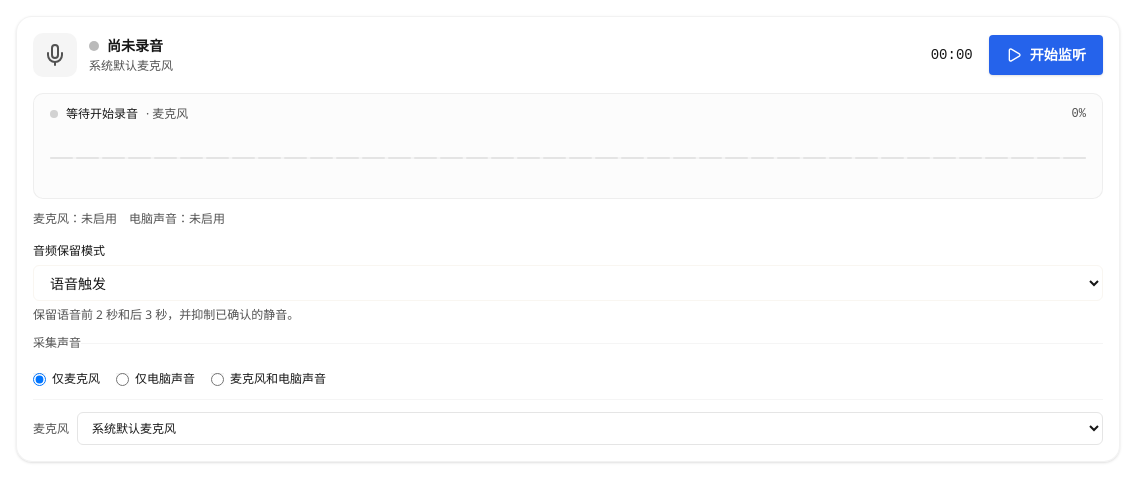
Test case: first-use recording consent › disables controls and ignores rapid clicks while a command is pending
What coordinates should you click on to do the following:
click the button "开始监听"
I would click on:
 (1046, 55)
Its box is [989, 35, 1103, 75].
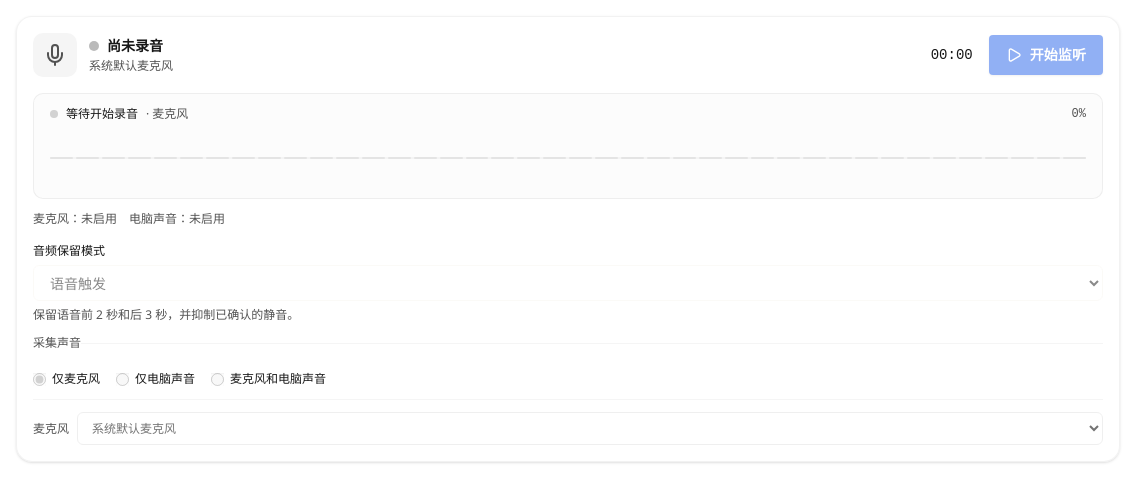
Now the button "开始监听" is disabled
What coordinates should you click on to do the following:
click the button "开始监听"
I would click on:
 (1046, 55)
Its box is [989, 35, 1103, 75].
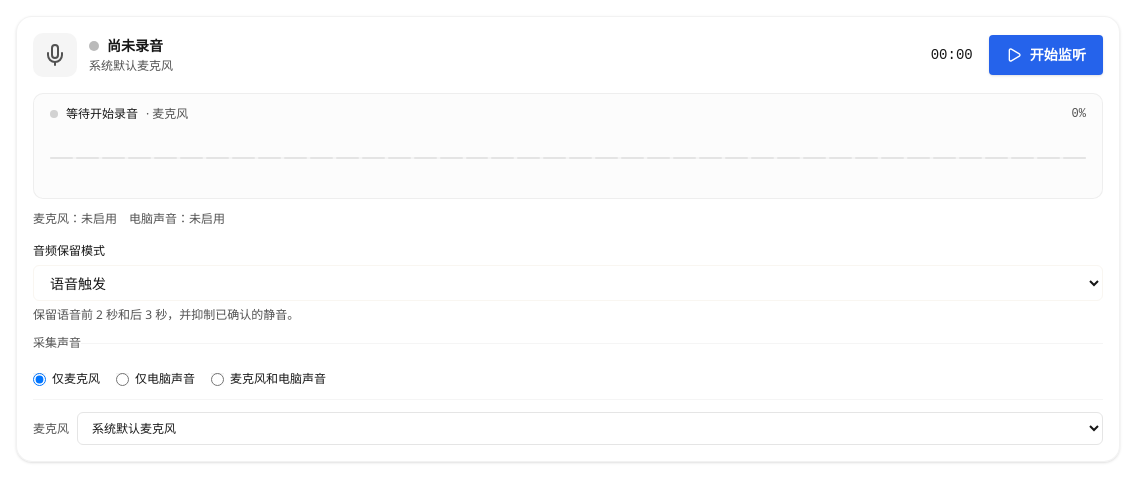
Now the button "开始监听" is enabled, box [989, 35, 1103, 75]
